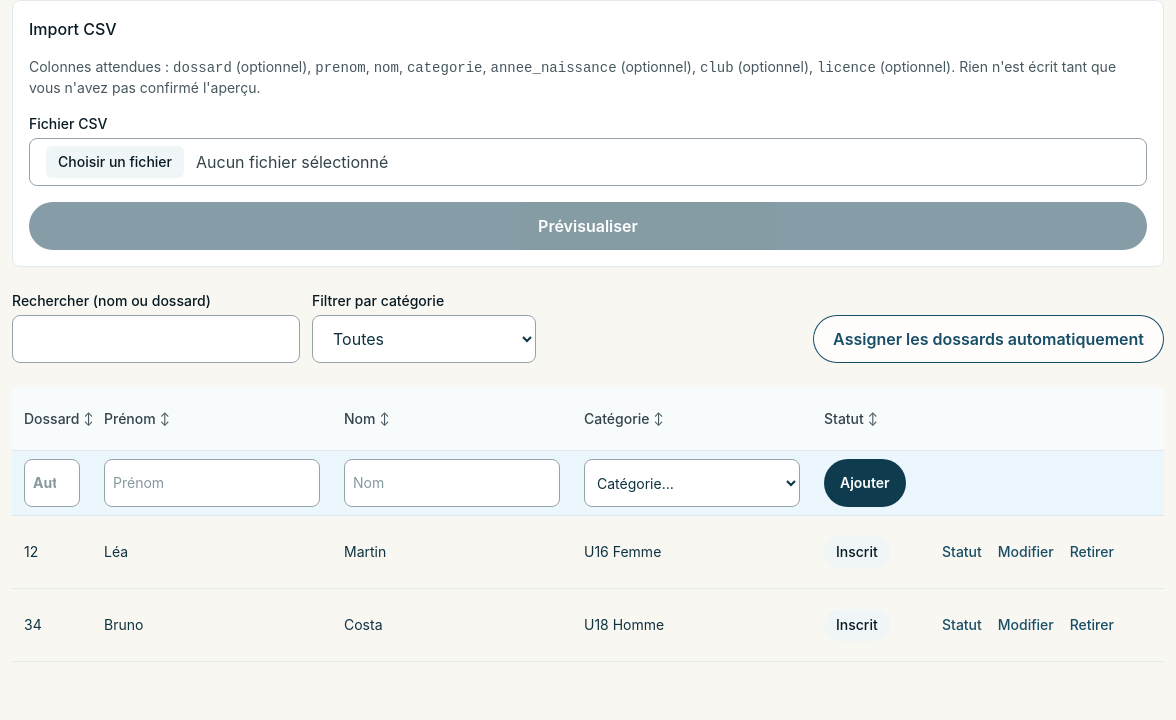
Test: CompetitorsTab — recherche et filtre › annonce la liste vide
Step 1. Type "personne" into the field labelled "Rechercher (nom ou dossard)" → (156, 339), box [12, 315, 300, 363]
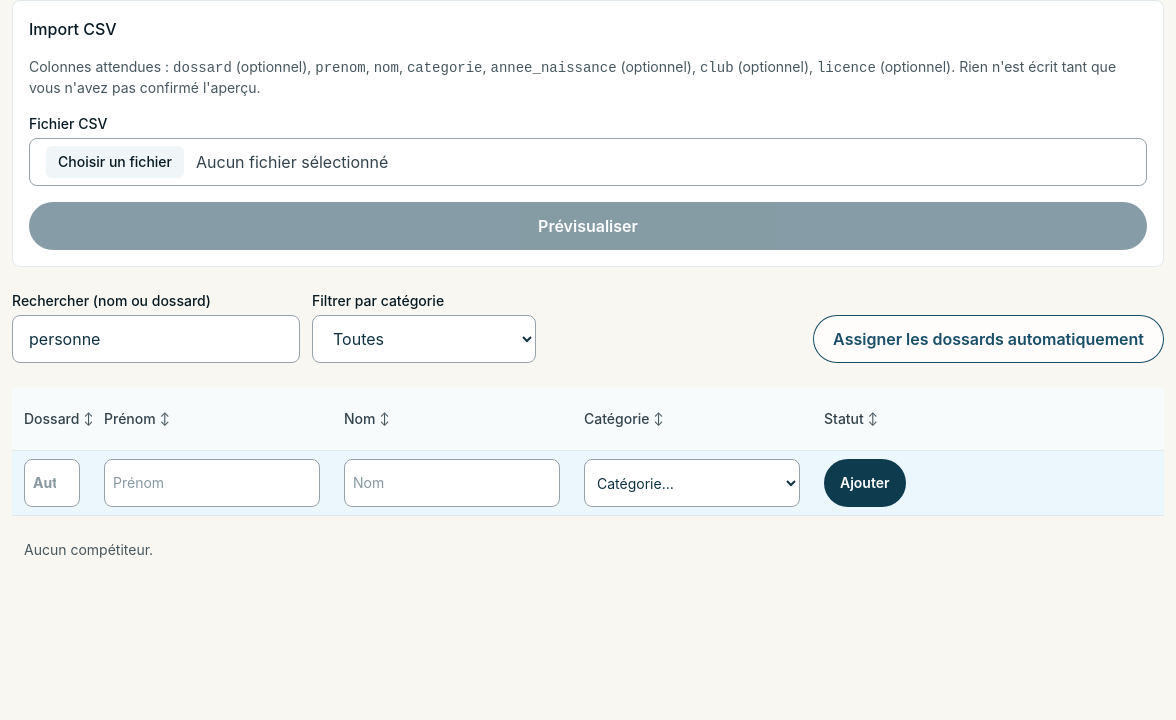
expect the text "Aucun compétiteur." is shown: met, box [12, 516, 1164, 584]
